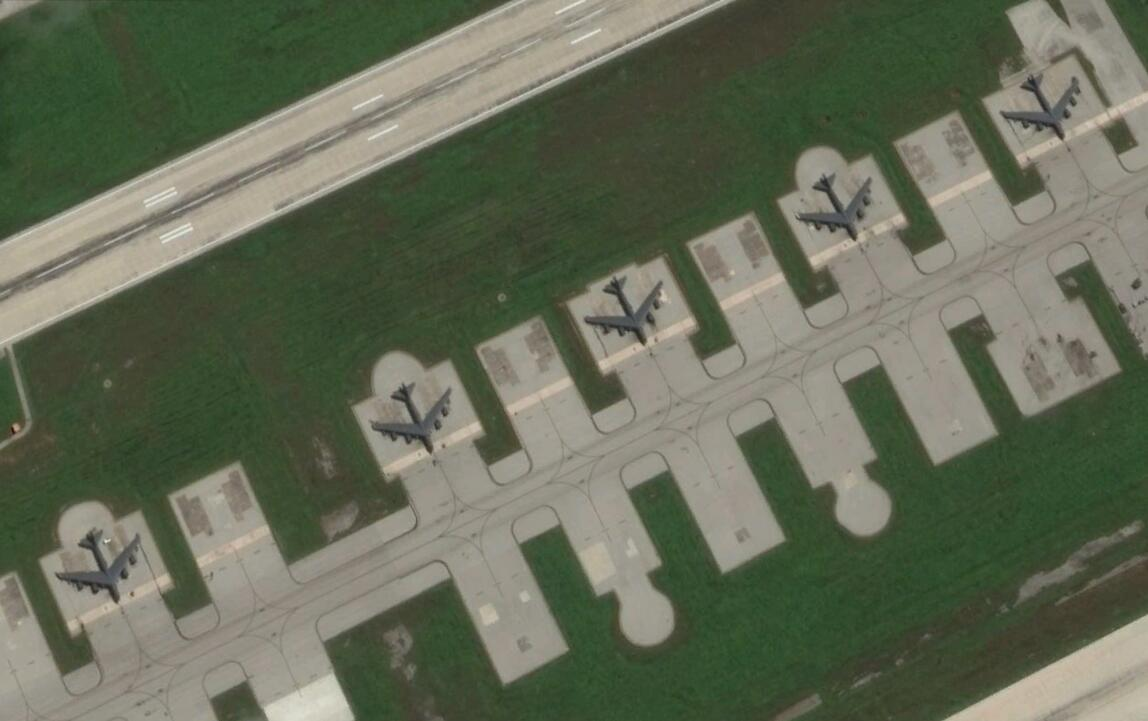A8: (54, 530, 152, 607), (370, 384, 460, 458), (587, 274, 670, 349), (1000, 73, 1089, 142), (798, 170, 878, 242)
